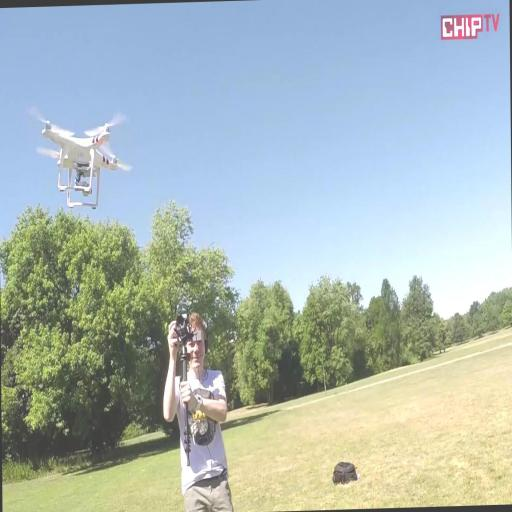drone: (29, 105, 133, 207)
